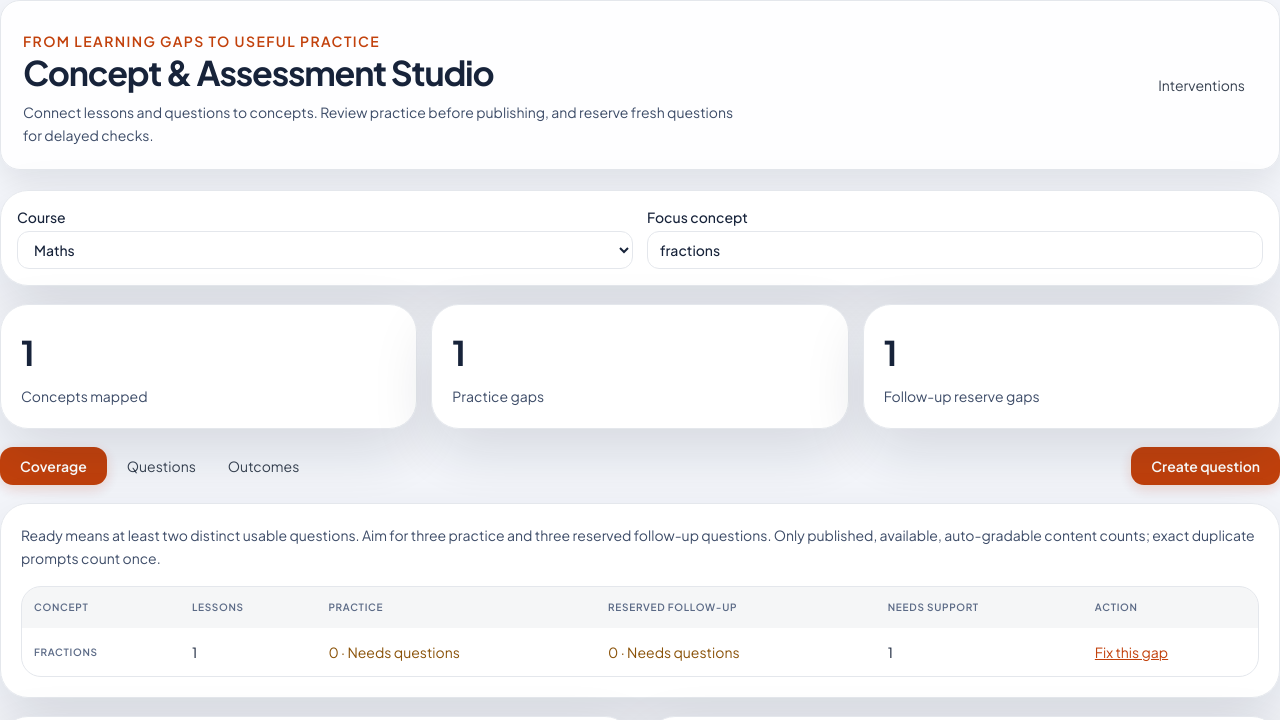
Assessment Studio › retains the review dialog when publication has a version conflict
Expected: the button "Create question" is shown, 1131,447 -> 1279,485
Click the button "questions" at (161, 466), box 115,447 -> 208,485
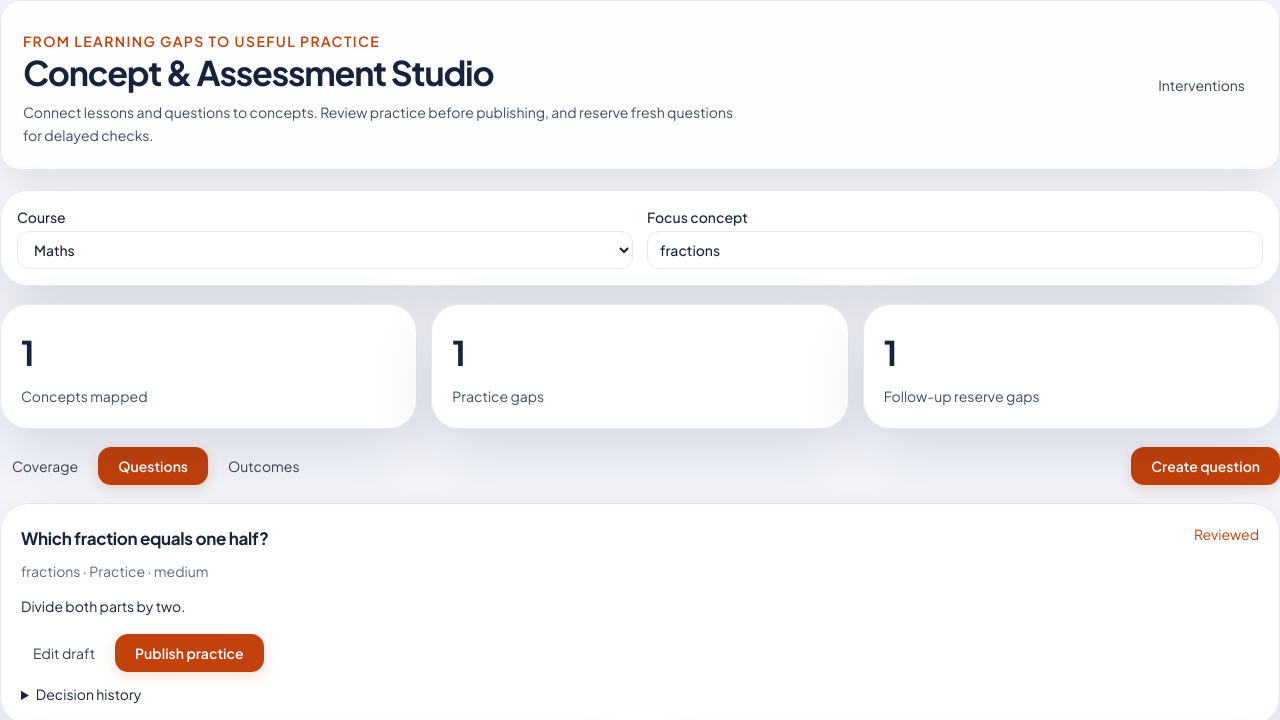
Click the button "Publish practice" at (189, 654), box 115,634 -> 264,672
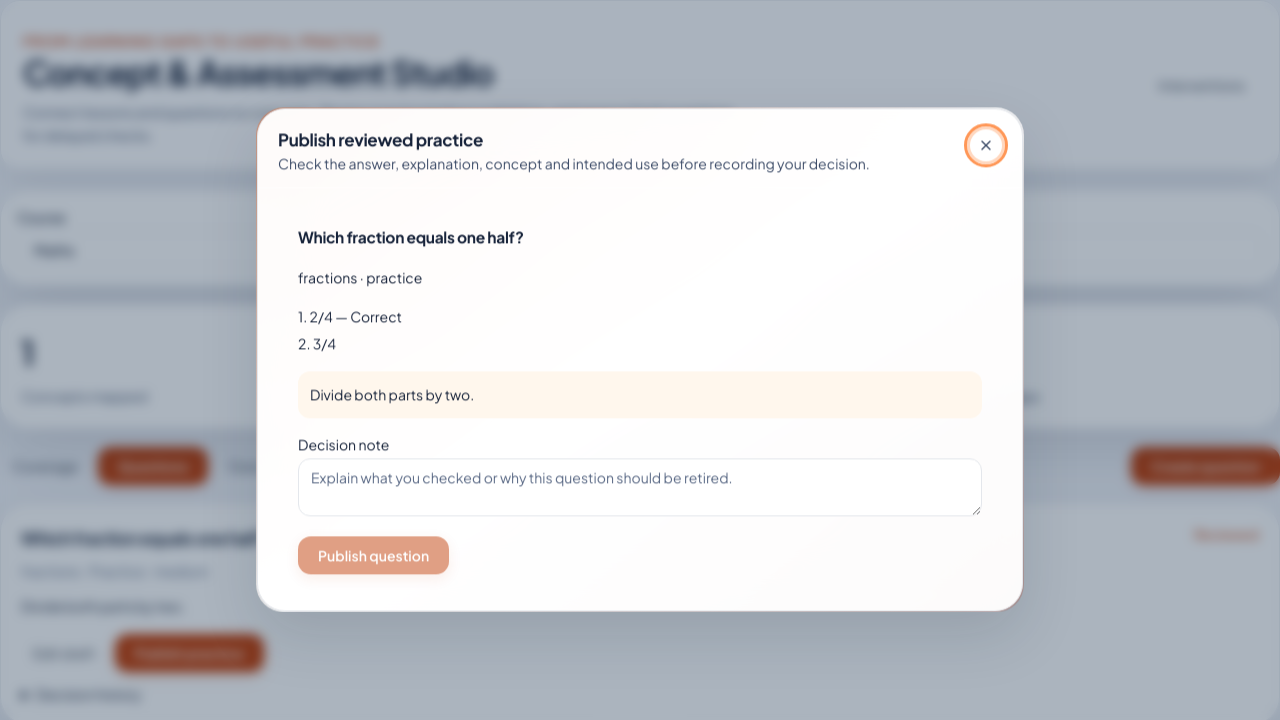
Replace the text in the text box labelled "Decision note" with "Ready for practice." at (640, 488), box 298,459 -> 982,517
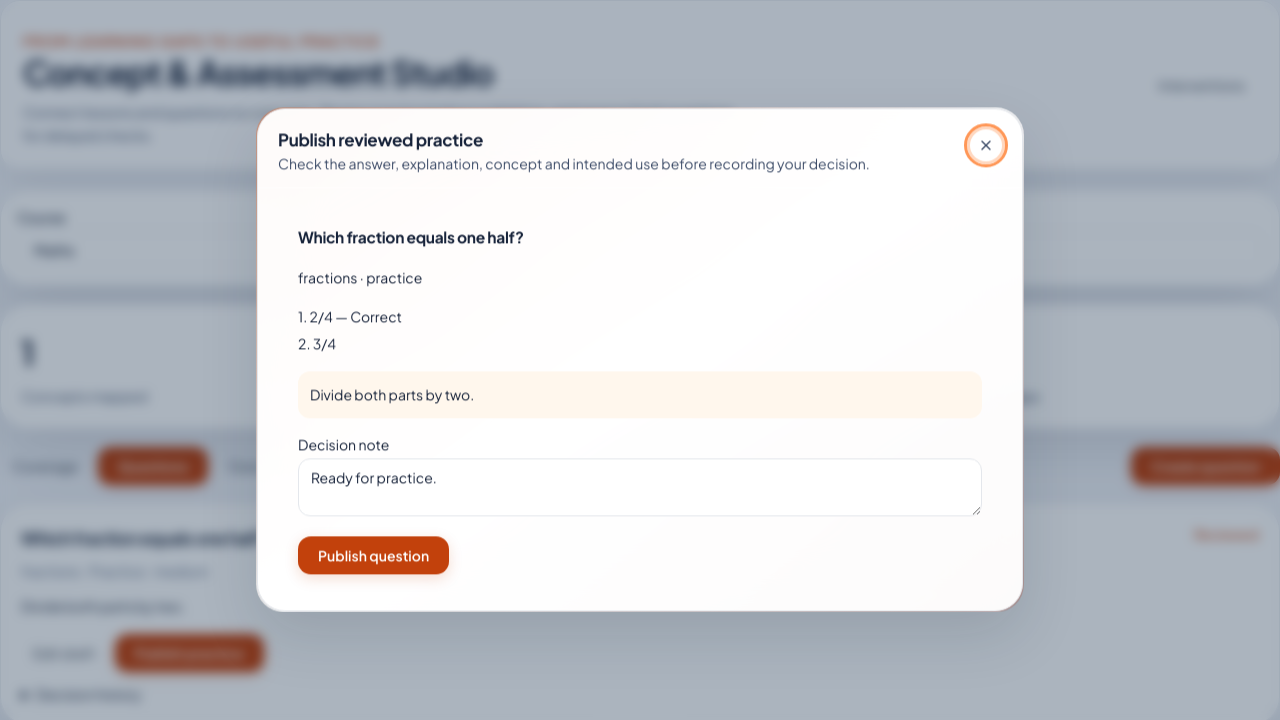
Click the button "Publish question" at (374, 556), box 298,537 -> 449,575
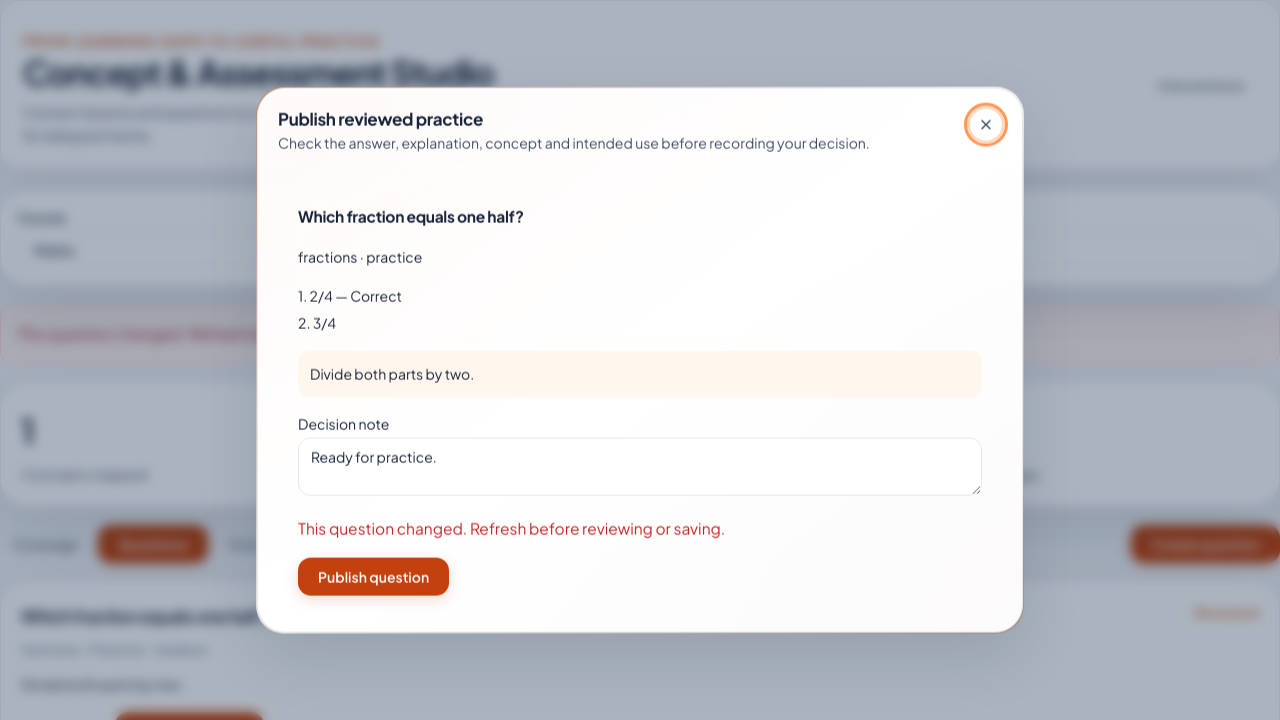
Expected: the message shows "This question changed", 298,519 -> 725,538
